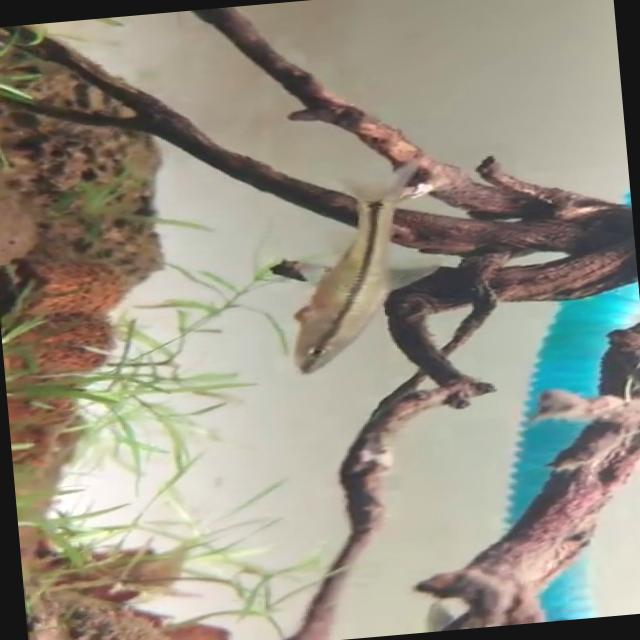Cakil Baligi: (271, 154, 454, 376)
